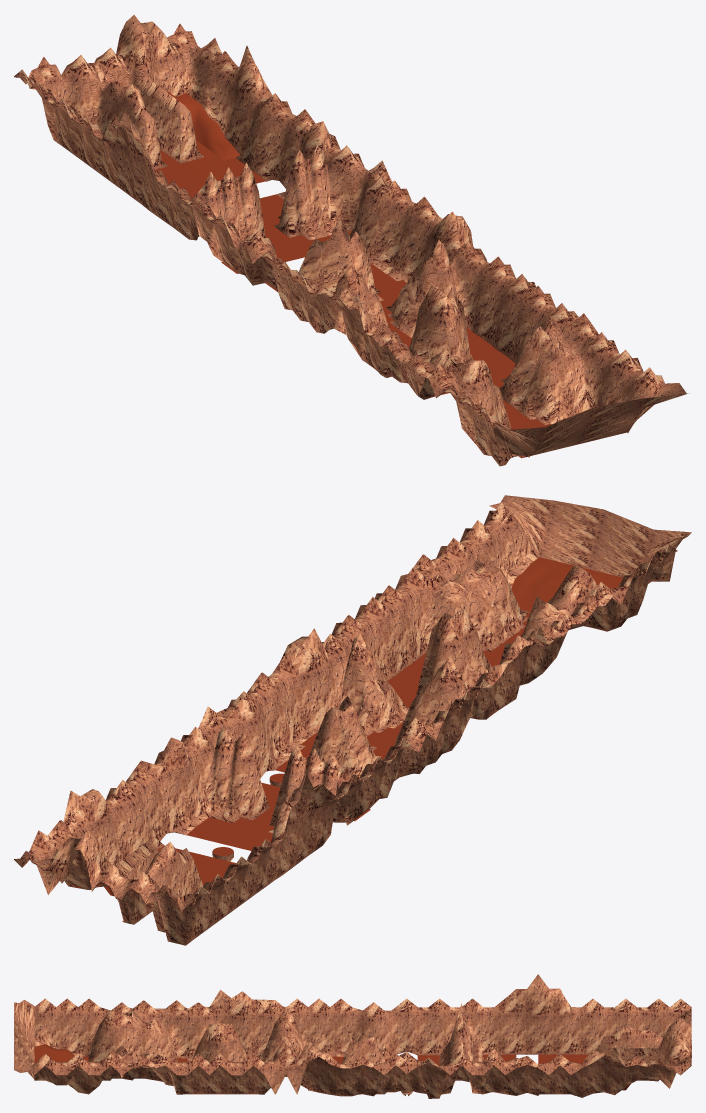
File: ARENA_OK_PORFIN.fbx
The picture shows the model from 3 angles, top to bottom: view 1: azimuth 30°, elevation 25°; view 2: azimuth 150°, elevation 25°; view 3: azimuth 270°, elevation 25°; orthographic projection. The views are drawn at different scales.
Parts seen in each view (by area): view 1: elevacionesMontañas, Plane002, Plane003, plat_final; view 2: elevacionesMontañas, Plane003, Plane002, terreno1; view 3: elevacionesMontañas, Plane003, Plane002, terreno1.
Part boxes in pixels (box(x1,y1,x2,y2)): elevacionesMontañas: box(14, 14, 664, 466); Plane002: box(155, 140, 551, 429); Plane003: box(493, 383, 687, 456); plat_final: box(167, 92, 239, 160); elevacionesMontañas: box(14, 502, 677, 945); Plane003: box(489, 495, 691, 581); Plane002: box(122, 612, 530, 922); terreno1: box(511, 557, 622, 631); elevacionesMontañas: box(33, 974, 691, 1098); Plane003: box(14, 1000, 34, 1078); Plane002: box(155, 1054, 588, 1094); terreno1: box(34, 1044, 88, 1063).
Size of the model in its own units: 219 by 130 by 994.
